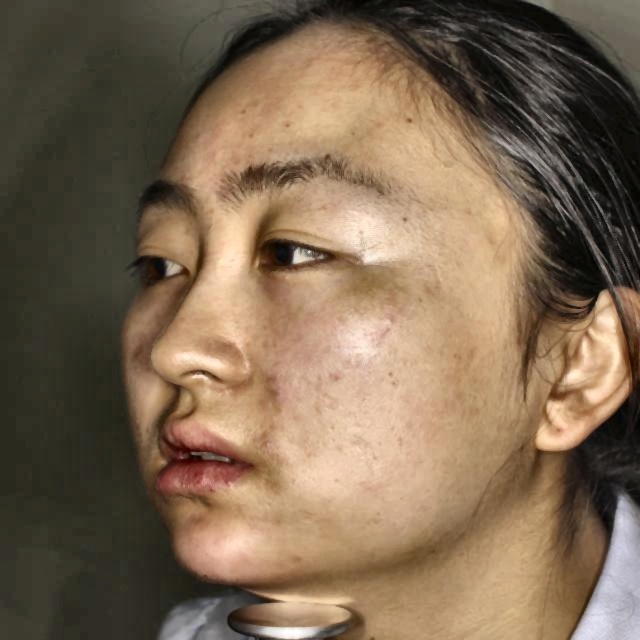comedone: (262, 368, 292, 406)
